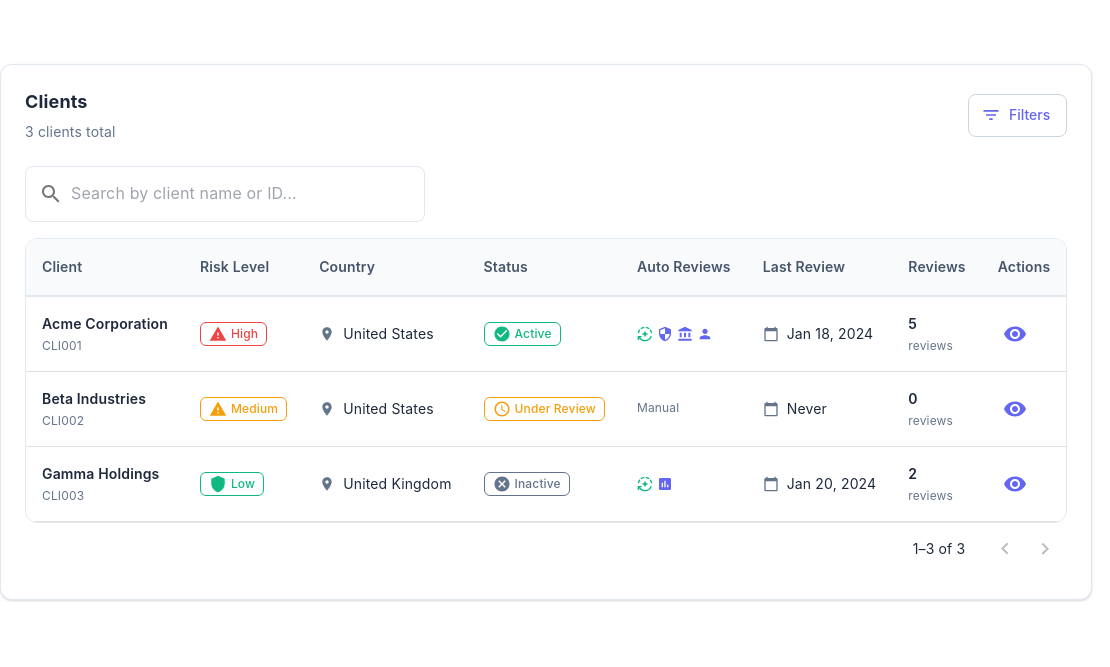
Scenario: ClientList Component › Filtering Functionality › shows and hides filter panel
This screenshot has width=1110, height=667.
Click the button "Filters": x=1018, y=115 [968, 94, 1067, 137]
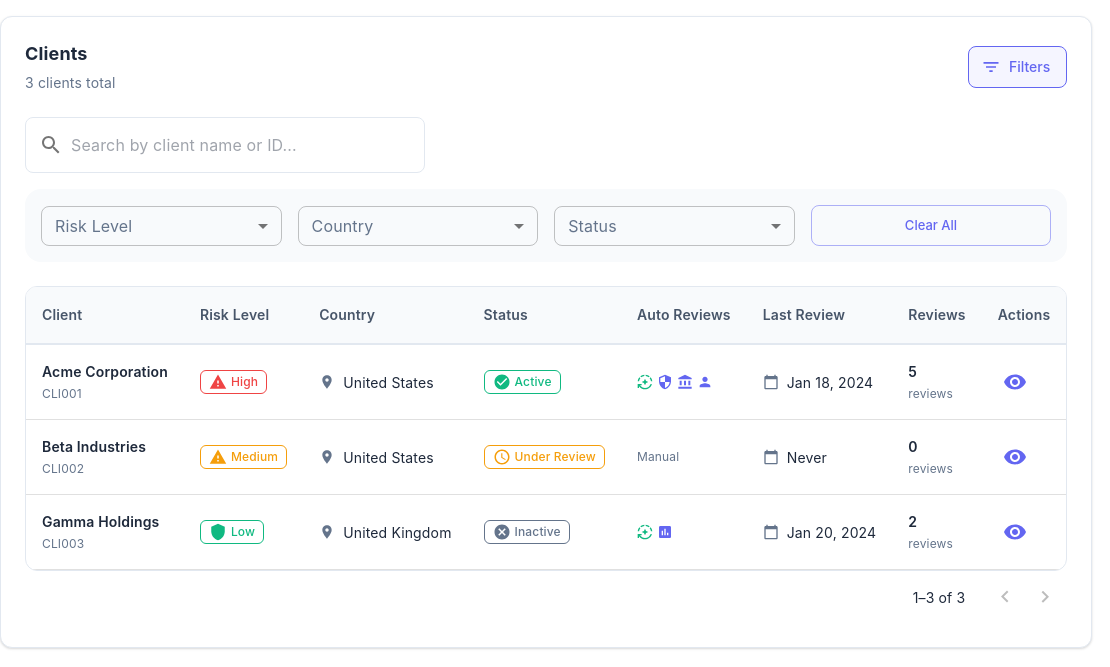
Now the number of dropdowns is 3, box [41, 206, 282, 246]; [298, 206, 538, 246]; [554, 206, 795, 246]
